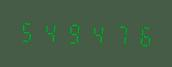five: (17, 17, 38, 45)
four: (39, 18, 60, 46), (84, 19, 105, 47)
nine: (62, 19, 83, 46)
seven: (106, 20, 127, 48)
six: (128, 21, 149, 49)
